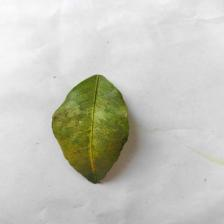black spot: (39, 99, 146, 181)
